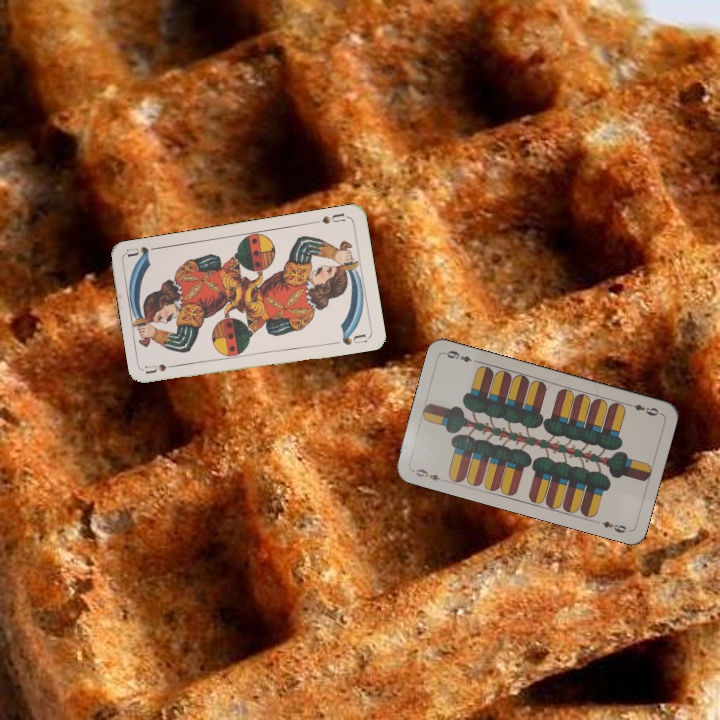E9: (409, 465, 448, 484), (623, 399, 661, 418)
SU: (143, 360, 183, 376), (310, 209, 347, 226)
